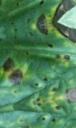Tomato Early blight leaf: (0, 14, 76, 114)
